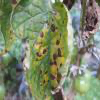Tomato Early blight leaf: (10, 1, 69, 98)
